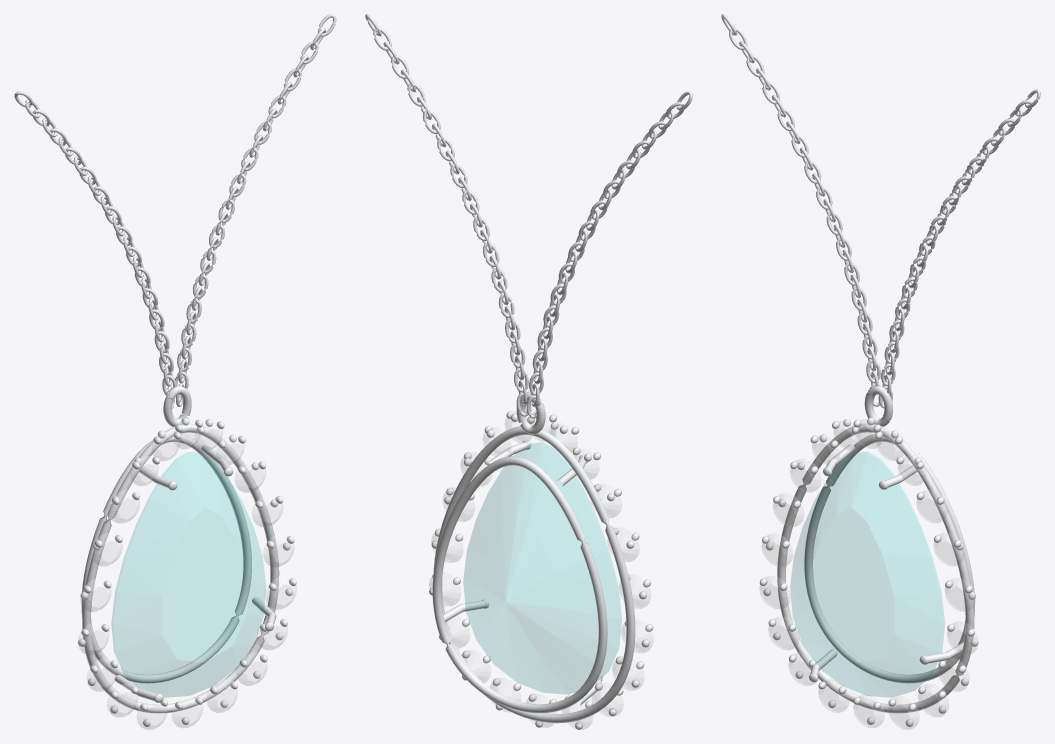
Rendered from paraiba-necklace.glb.
3 renders of one model, left to right at view 1: azimuth 30°, elevation 25°; view 2: azimuth 150°, elevation 25°; view 3: azimuth 330°, elevation 25°, orthographic. The views are drawn at different scales.
Parts seen in each view (by area): view 1: Paraiba necklace centre | illustrative, White gold setting and links | approximate, Halo diamond 16 | illustrative, Halo diamond 05 | illustrative, Halo diamond 04 | illustrative, Halo diamond 14 | illustrative, Halo diamond 07 | illustrative, Halo diamond 11 | illustrative, Halo diamond 15 | illustrative, Halo diamond 18 | illustrative, Halo diamond 09 | illustrative, Halo diamond 10 | illustrative (+9 smaller); view 2: Paraiba necklace centre | illustrative, White gold setting and links | approximate, Halo diamond 09 | illustrative, Halo diamond 18 | illustrative, Halo diamond 16 | illustrative, Halo diamond 17 | illustrative, Halo diamond 07 | illustrative, Halo diamond 15 | illustrative, Halo diamond 14 | illustrative; view 3: Paraiba necklace centre | illustrative, White gold setting and links | approximate, Halo diamond 10 | illustrative, Halo diamond 16 | illustrative, Halo diamond 18 | illustrative, Halo diamond 12 | illustrative, Halo diamond 06 | illustrative, Halo diamond 08 | illustrative, Halo diamond 05 | illustrative, Halo diamond 09 | illustrative, Halo diamond 04 | illustrative, Halo diamond 17 | illustrative (+9 smaller).
Part boxes in pixels (box(x1,y1,x2,y2)): Paraiba necklace centre | illustrative: box(111, 452, 265, 697); White gold setting and links | approximate: box(14, 14, 336, 726); Halo diamond 16 | illustrative: box(80, 578, 111, 611); Halo diamond 05 | illustrative: box(252, 493, 283, 526); Halo diamond 04 | illustrative: box(235, 459, 265, 492); Halo diamond 14 | illustrative: box(87, 658, 117, 691); Halo diamond 07 | illustrative: box(265, 576, 296, 609); Halo diamond 11 | illustrative: box(172, 695, 202, 727); Halo diamond 15 | illustrative: box(78, 622, 109, 654); Halo diamond 18 | illustrative: box(108, 490, 139, 523); Halo diamond 09 | illustrative: box(236, 652, 267, 685); Halo diamond 10 | illustrative: box(207, 679, 237, 712); Paraiba necklace centre | illustrative: box(463, 442, 621, 694); White gold setting and links | approximate: box(365, 14, 692, 729); Halo diamond 09 | illustrative: box(462, 650, 490, 682); Halo diamond 18 | illustrative: box(590, 483, 621, 517); Halo diamond 16 | illustrative: box(619, 574, 650, 608); Halo diamond 17 | illustrative: box(607, 527, 639, 561); Halo diamond 07 | illustrative: box(429, 572, 460, 605); Halo diamond 15 | illustrative: box(621, 619, 653, 652); Halo diamond 14 | illustrative: box(612, 656, 644, 690); Paraiba necklace centre | illustrative: box(790, 452, 944, 697); White gold setting and links | approximate: box(721, 14, 1040, 726); Halo diamond 10 | illustrative: box(888, 696, 919, 729); Halo diamond 16 | illustrative: box(762, 533, 792, 566); Halo diamond 18 | illustrative: box(790, 459, 821, 492); Halo diamond 12 | illustrative: box(818, 679, 849, 712); Halo diamond 06 | illustrative: box(945, 578, 975, 611); Halo diamond 08 | illustrative: box(938, 658, 969, 691); Halo diamond 05 | illustrative: box(933, 532, 964, 565); Halo diamond 09 | illustrative: box(918, 684, 949, 716); Halo diamond 04 | illustrative: box(916, 490, 947, 522); Halo diamond 17 | illustrative: box(773, 493, 804, 526).
Bounding box in the file's own units: 2.66 × 5.29 × 0.75.
